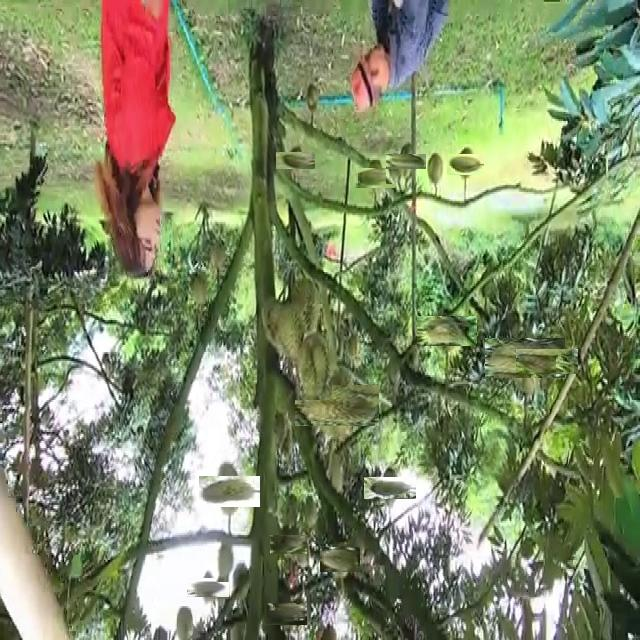durian: (257, 295, 308, 372), (306, 374, 368, 437), (495, 328, 556, 388), (294, 331, 332, 400), (285, 273, 321, 341), (206, 468, 253, 514), (425, 308, 470, 354), (526, 339, 570, 384), (371, 469, 409, 506), (275, 492, 303, 542), (186, 266, 212, 310), (324, 543, 357, 577), (193, 572, 224, 604), (271, 598, 303, 629), (230, 560, 252, 604), (360, 162, 390, 193), (451, 149, 480, 179), (281, 146, 310, 174), (274, 530, 303, 558), (392, 148, 420, 176), (216, 542, 235, 582), (206, 240, 228, 274), (428, 151, 448, 187), (302, 492, 318, 535), (175, 604, 194, 640), (386, 152, 404, 184), (305, 80, 322, 111)
